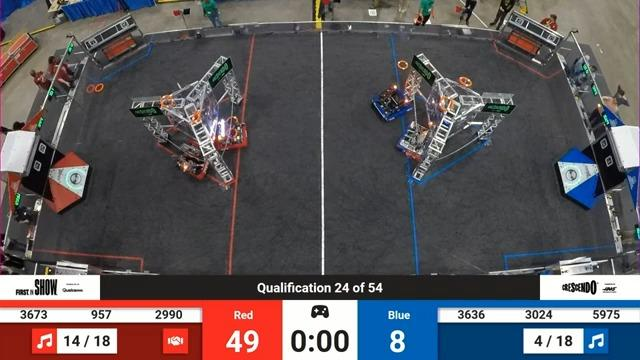robot: (173, 139, 219, 186), (396, 121, 436, 164), (372, 84, 413, 122), (208, 116, 254, 148)
